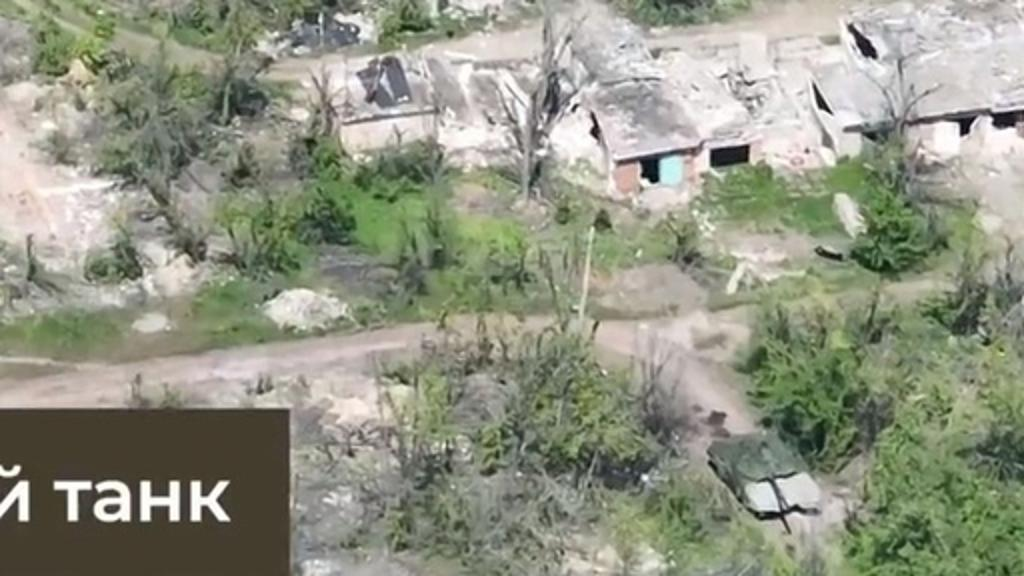TANK: (698, 418, 826, 528)
